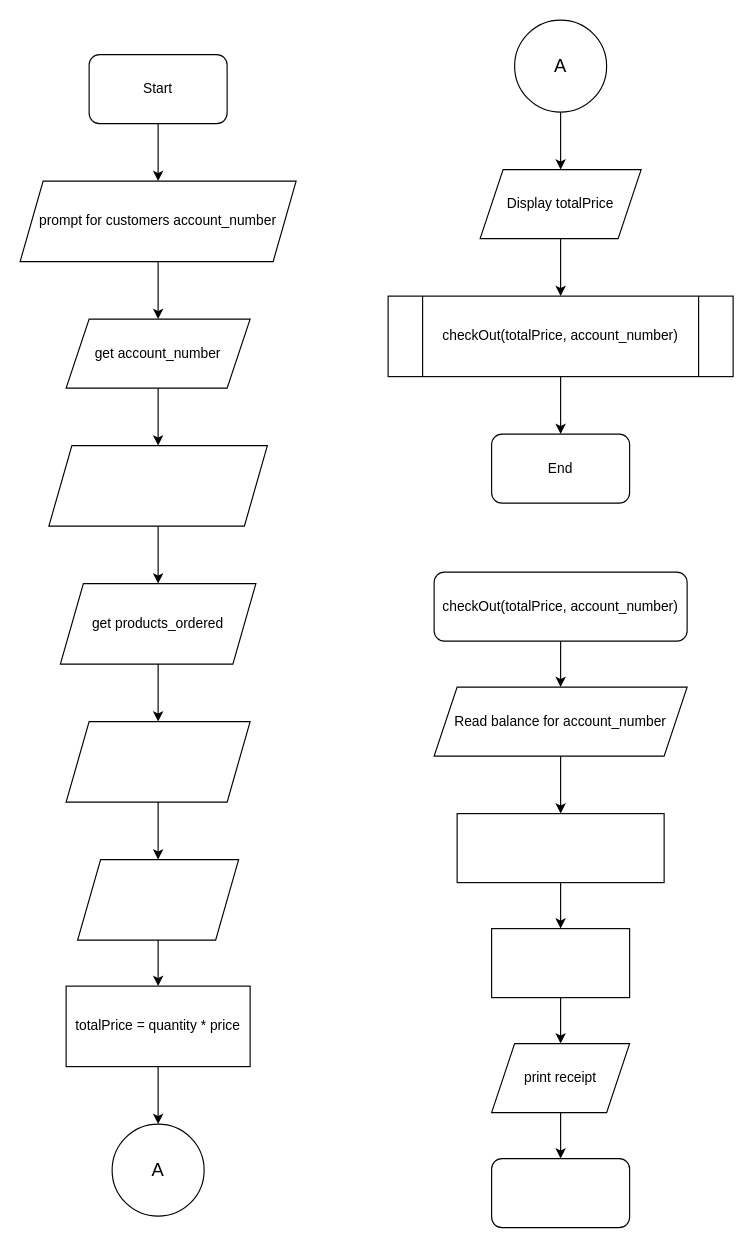
Image size: 753x1248. Some labels were removed from this diagram. Here are the shapes that lost their labels. From the top down, the box of each, then its label:
(48, 444, 267, 526): prompt for products ordered
(65, 720, 250, 802): prompt for quantity
(456, 812, 664, 883): balance = balance - totalPrice
(76, 858, 239, 940): get quantity
(490, 927, 630, 998): generate receipt
(490, 1157, 630, 1228): return
